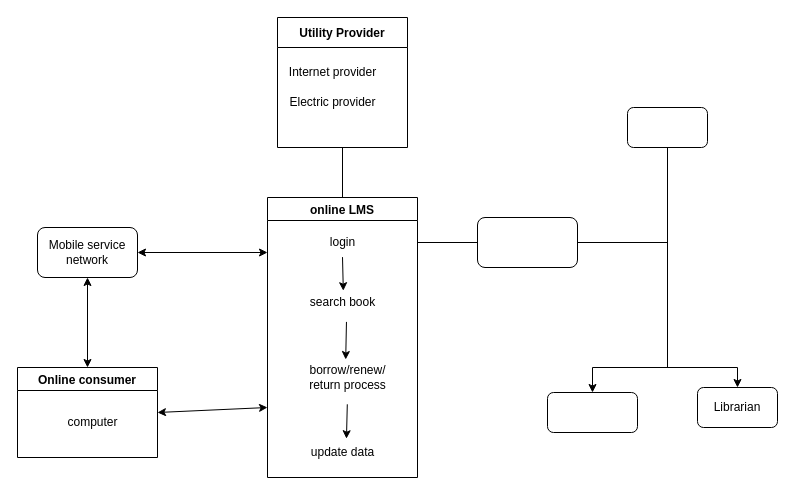
The diagram is 795 pixels wide and 495 high, and some of its shapes have lost their labels. The shapes that lost their labels are listed below. From the top down, each one's centre as x and y in pixels, then its label:
At (667,127): "Database".
At (527,242): "NSBM University server".
At (592,412): "Admin".
